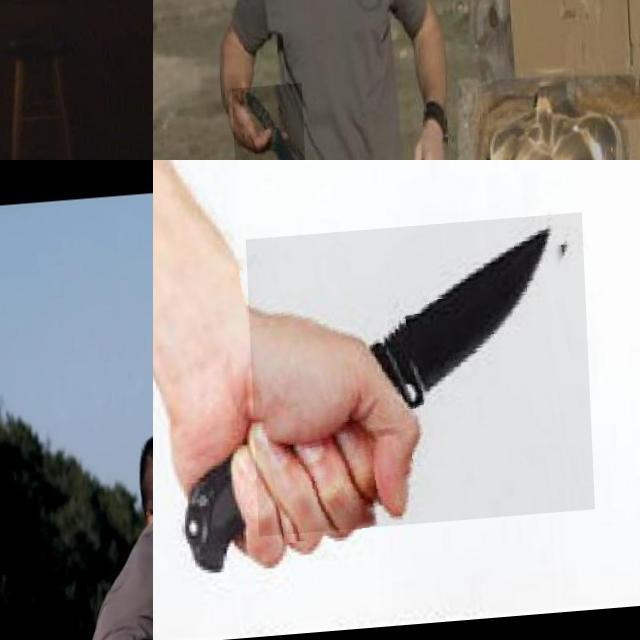-: (243, 222, 590, 540), (228, 87, 302, 160)
gun-knife-thesis - v11 Yolov5 augmented: (80, 0, 153, 74)
